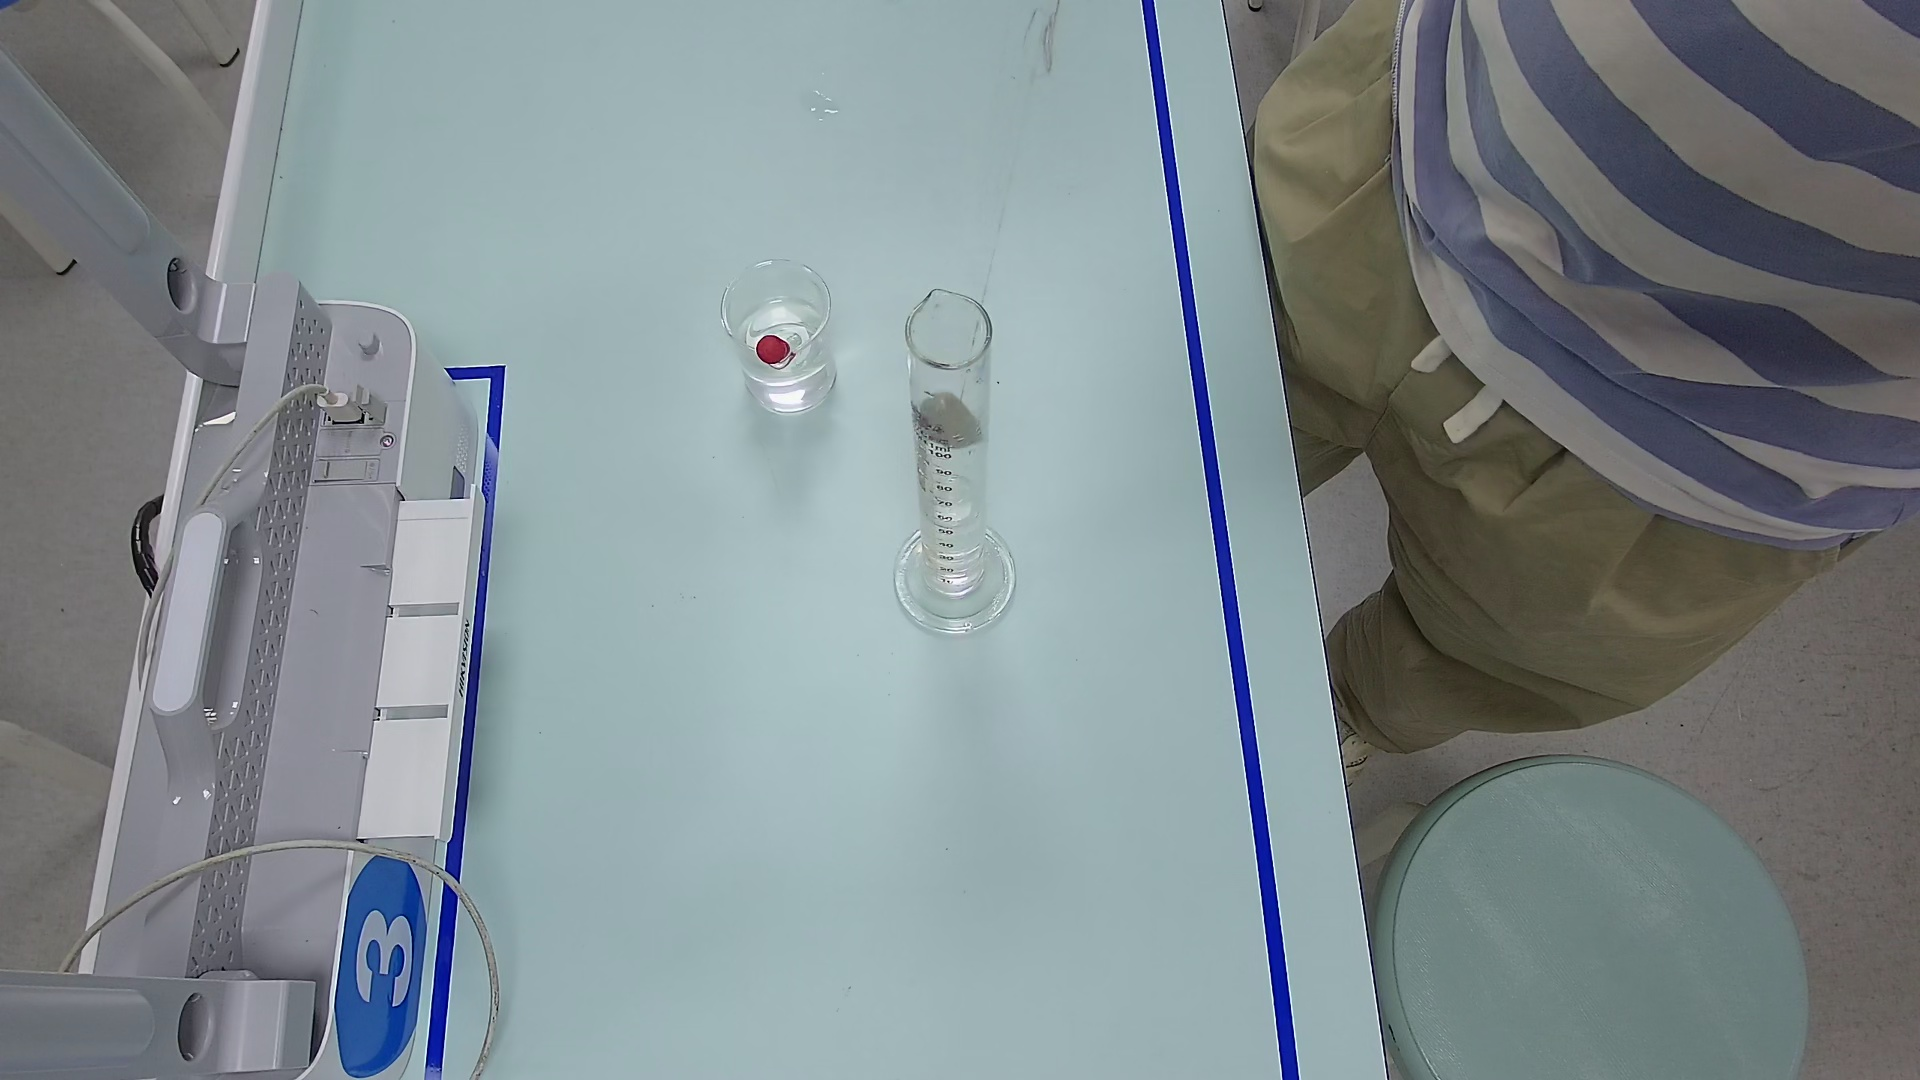ao: (916, 469, 989, 520)
bei: (721, 252, 851, 418)
diguantou: (746, 331, 795, 371)
liangdi: (897, 535, 1023, 650)
liangtong: (894, 269, 1013, 645)
shi: (913, 393, 992, 447)
